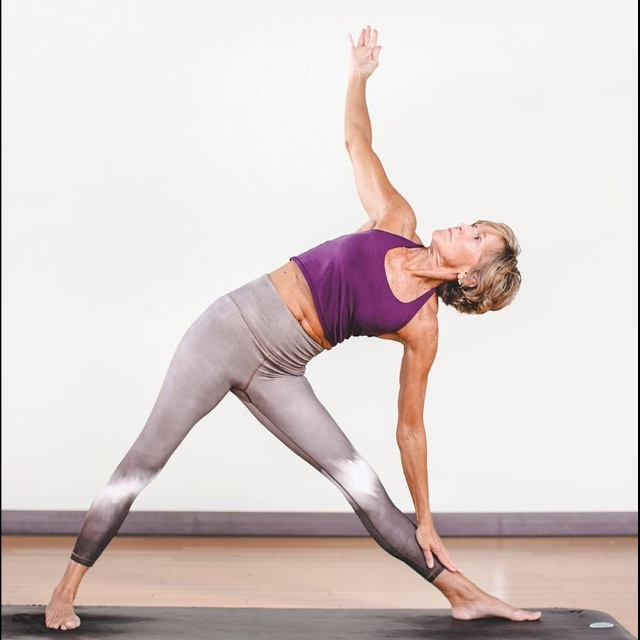Triangle_Pose: (38, 1, 553, 633)
